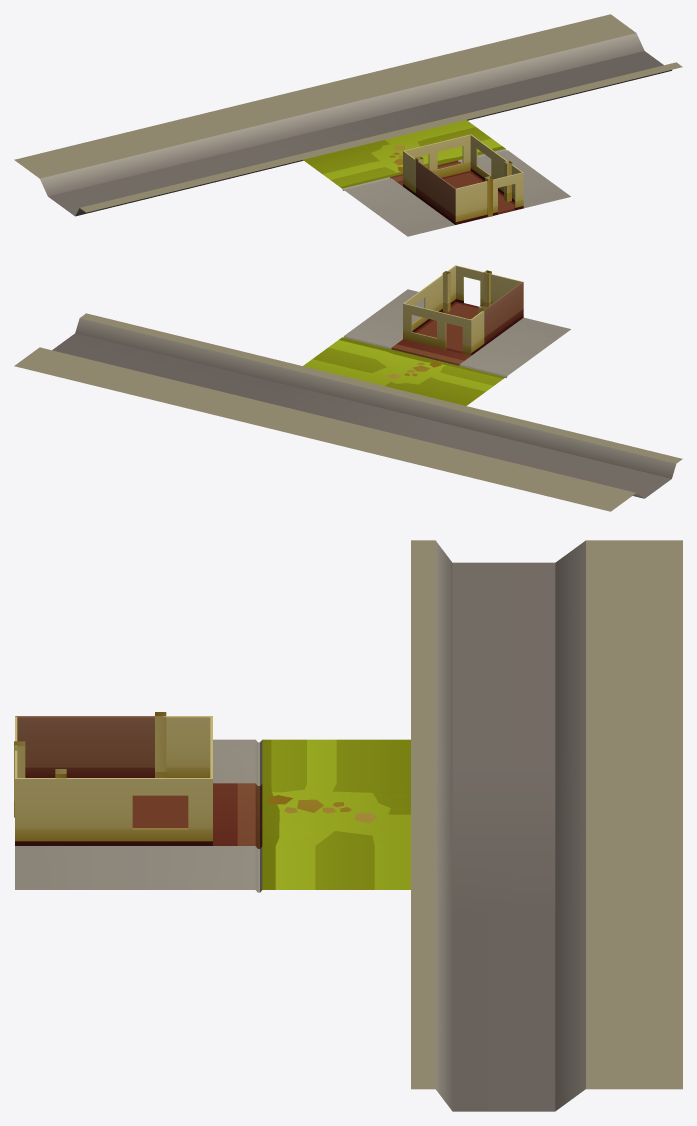
File: SM_HouseEnvironment_01.fbx
3 views of the same model, one above another, from view 1: azimuth 30°, elevation 25°; view 2: azimuth 150°, elevation 25°; view 3: azimuth 270°, elevation 25° (orthographic). The views are drawn at different scales.
Parts seen in each view (by area): view 1: SM_HouseEnvironment_01; view 2: SM_HouseEnvironment_01; view 3: SM_HouseEnvironment_01.
Boxes of the visible parts, x1,y1,x2,y2 form: SM_HouseEnvironment_01: [14, 14, 682, 236]; SM_HouseEnvironment_01: [14, 265, 682, 511]; SM_HouseEnvironment_01: [14, 540, 682, 1111].
Size of the model in its own units: 52.49 by 4.19 by 27.04.
